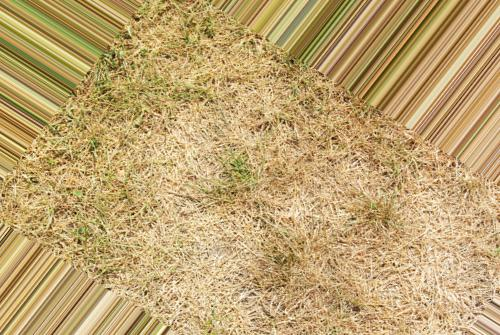patch: (87, 107, 320, 262), (332, 179, 459, 307), (135, 36, 235, 95), (151, 275, 315, 309)
